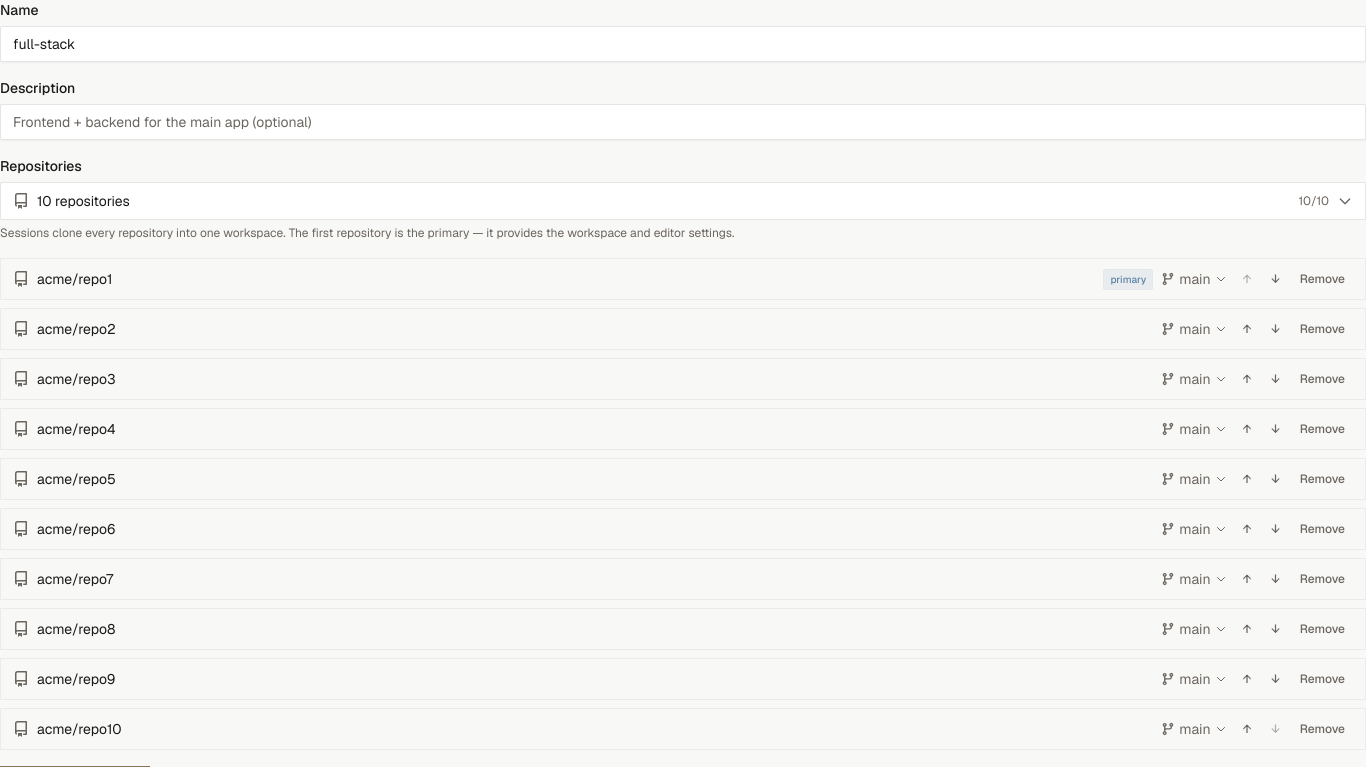
EnvironmentForm › disables further selection at the repository cap
Click the button with aria-label "Repository selection" at {"x": 83, "y": 201}, box [0,182,1365,220]
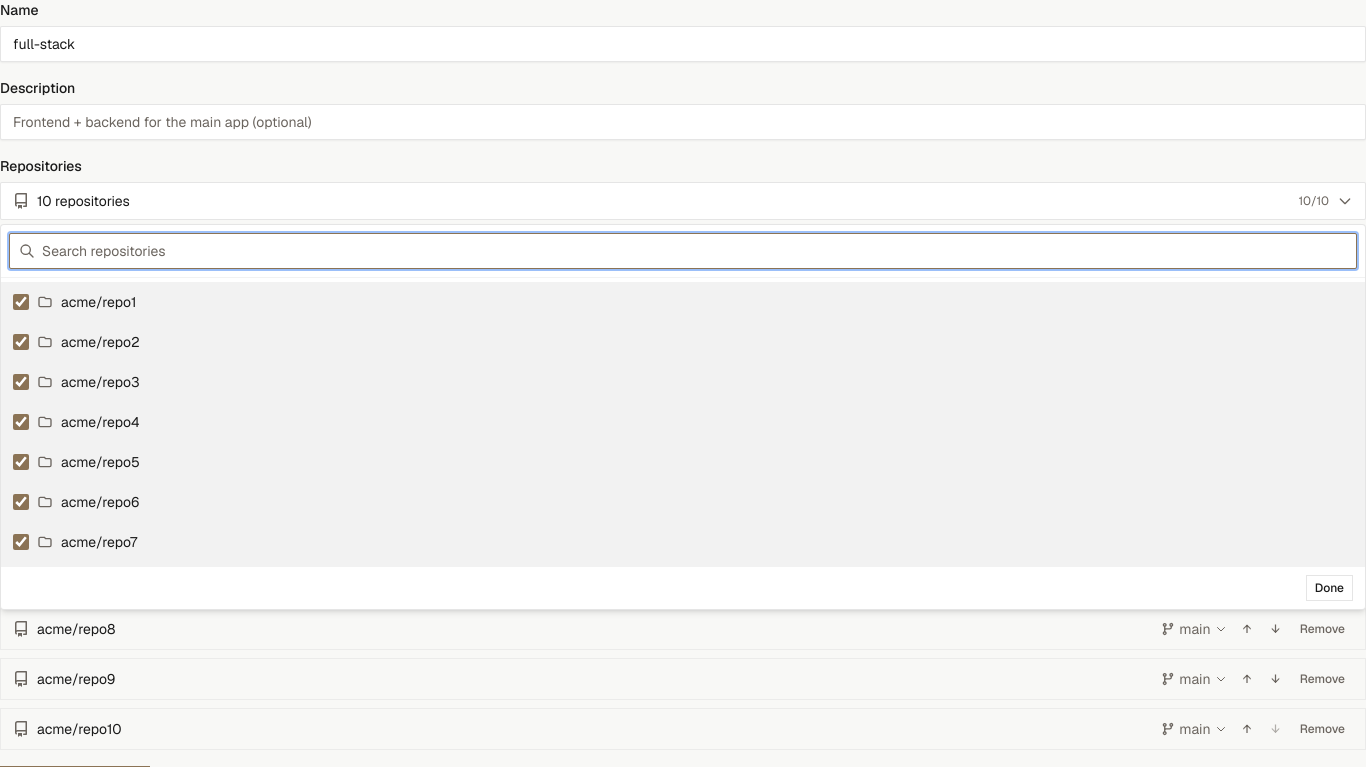
Expected: the checkbox labelled "acme/repo1" is enabled, [13,294,29,310]
